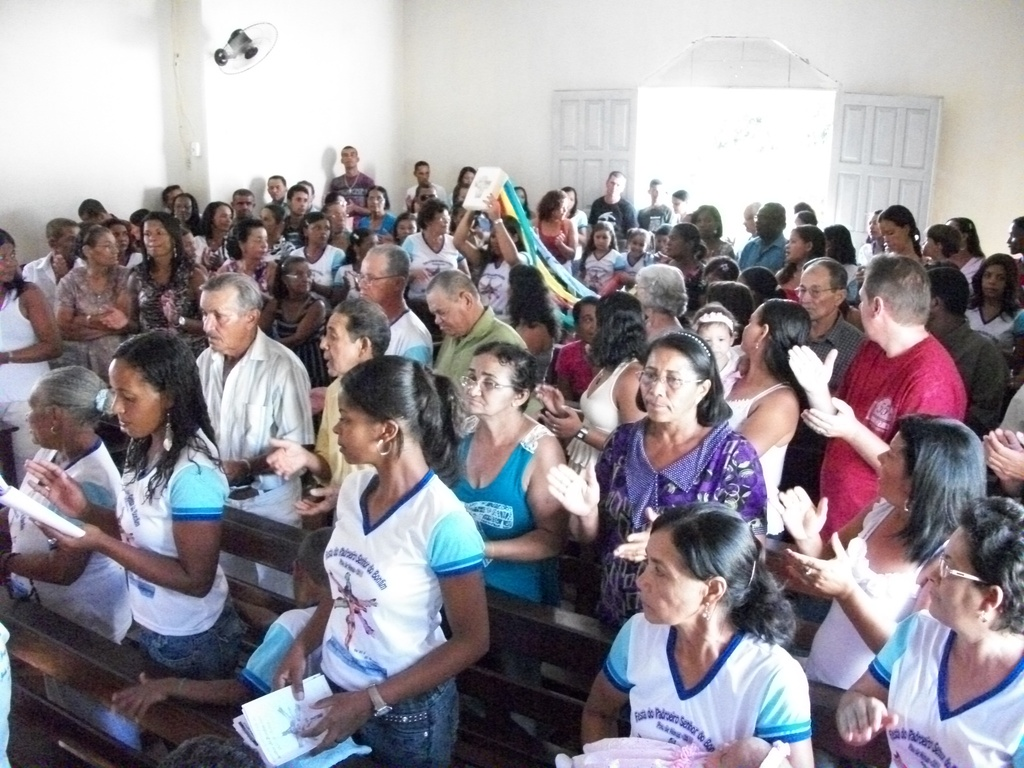face: (873, 430, 926, 498)
